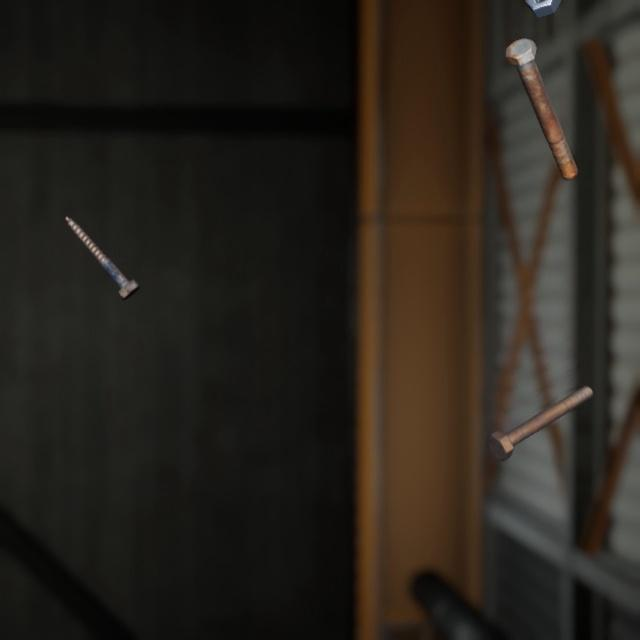bolt: (501, 22, 582, 172), (483, 361, 597, 444), (60, 196, 144, 288)
